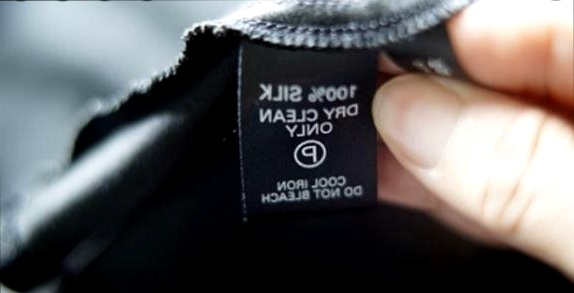dry_clean_any_solvent_except_trichloroethylene: (292, 138, 326, 168)
